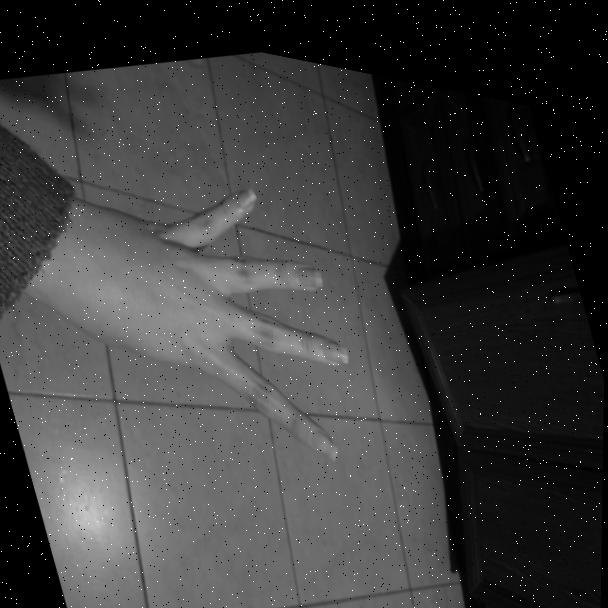four: (51, 125, 385, 529)
